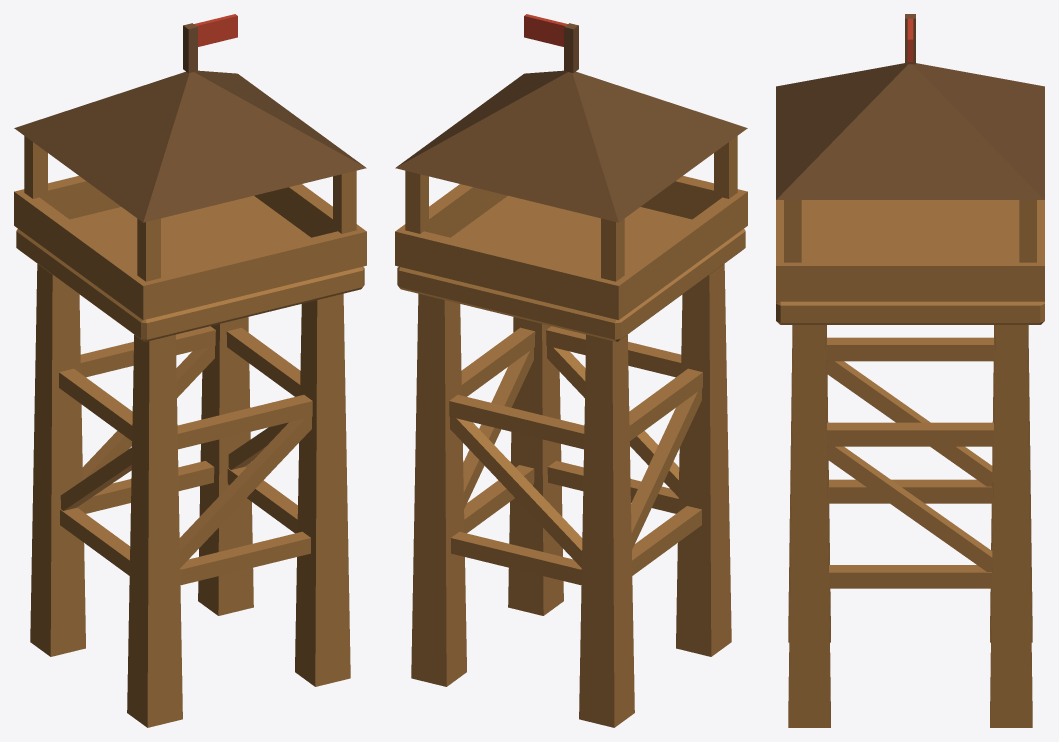
Rendered from env_r1_watchtower.glb.
The picture shows the model from 3 angles, left to right: view 1: azimuth 30°, elevation 25°; view 2: azimuth 150°, elevation 25°; view 3: azimuth 270°, elevation 25°; orthographic projection. The views are drawn at different scales.
Parts seen in each view (by area): view 1: env_r1_watchtower; view 2: env_r1_watchtower; view 3: env_r1_watchtower.
Boxes of the visible parts, x1,y1,x2,y2 form: env_r1_watchtower: (14,14,366,727); env_r1_watchtower: (395,14,747,727); env_r1_watchtower: (776,14,1044,727).
Size of the model in its own units: 2.4 by 6.5 by 2.4.
Materials: 1 (1 with a texture image).
